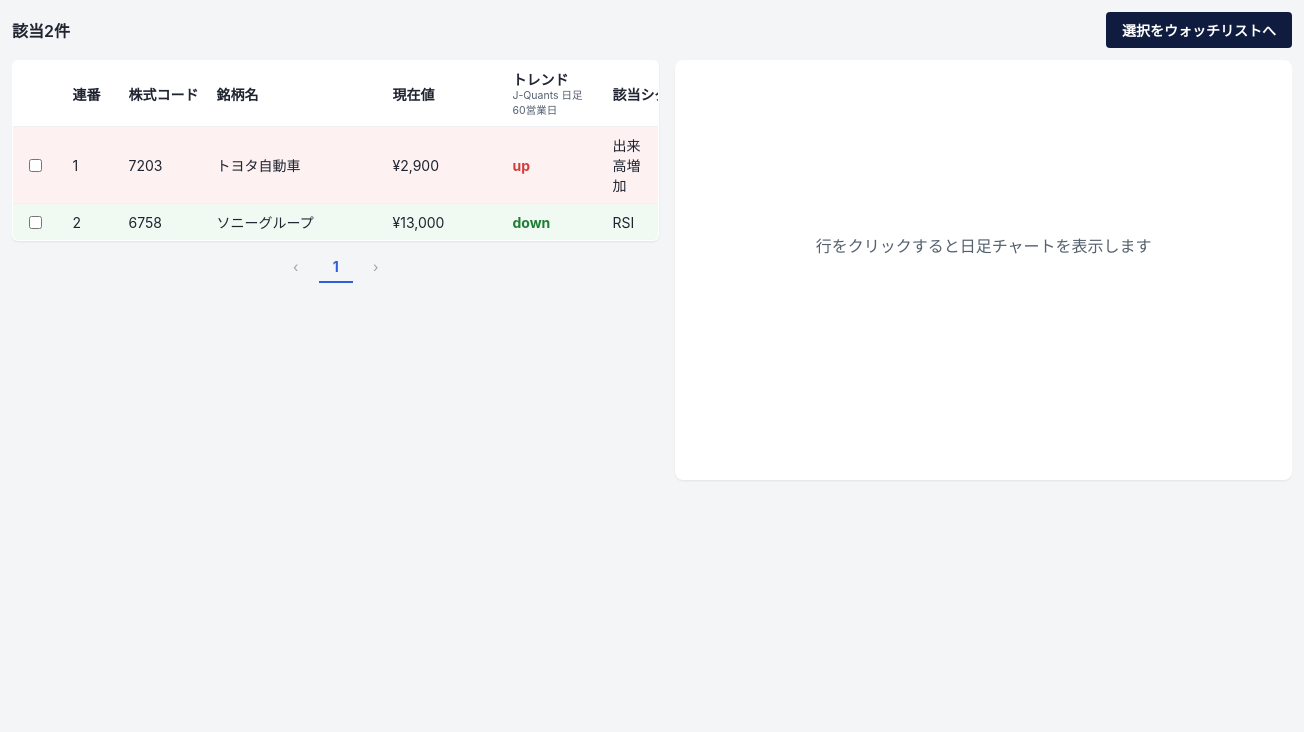
Test: ScreeningResultsPanel errors and notices › shows a neutral skipped-count note after registering, and clears it on the next register
The width and height of the screenshot is (1304, 732).
What coordinates should you click on to do the following:
click the checkbox named "7203を選択"
I would click on:
 (36, 165)
Its box is [29,159,42,172].
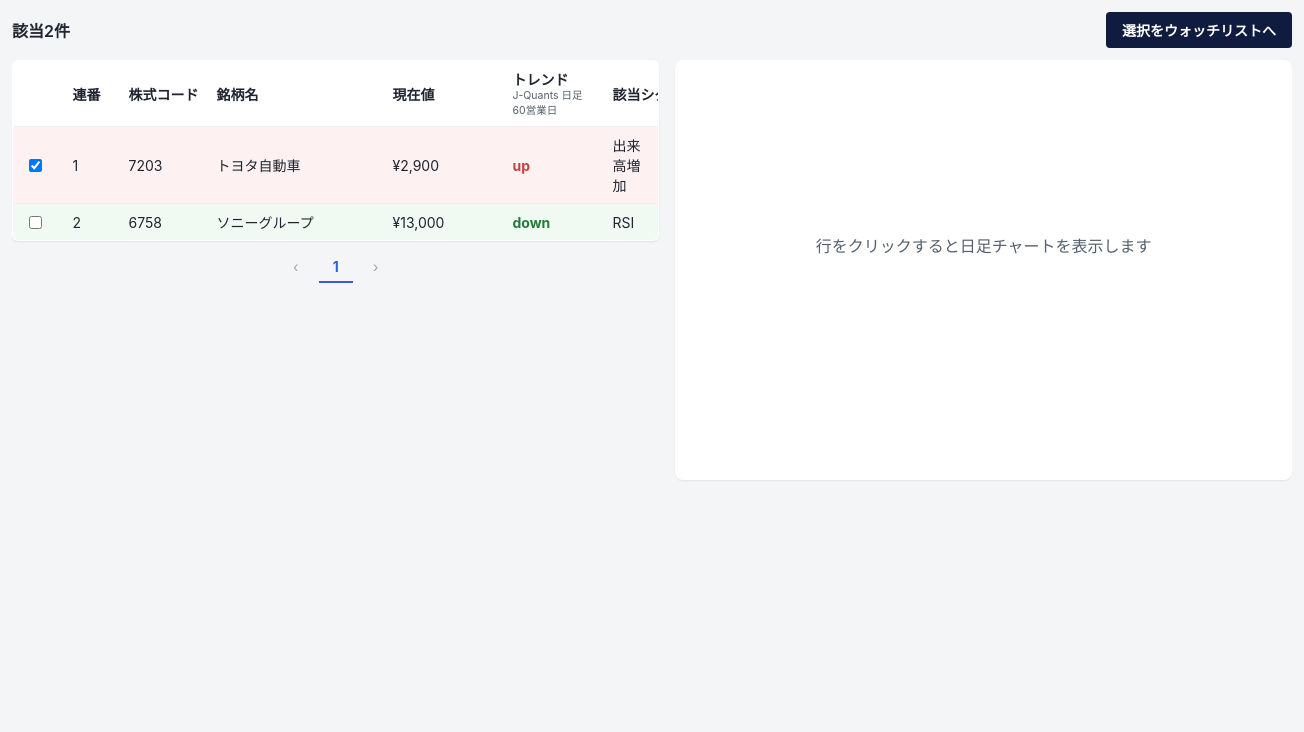
What coordinates should you click on to do the following:
click the button "選択をウォッチリストへ"
I would click on:
 (1199, 30)
Its box is [1106,12,1292,48].
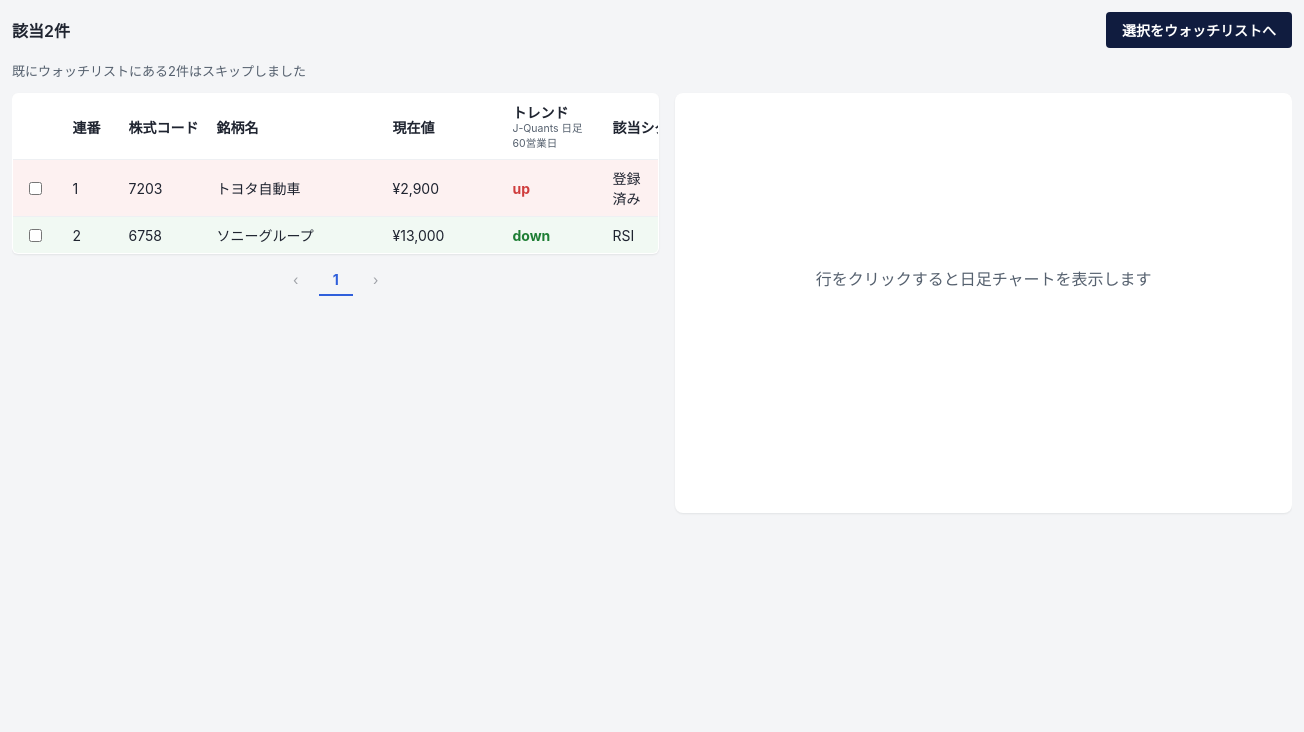
Result: the text "既にウォッチリストにある2件はスキップしました" is shown at [12,63,306,79]
What coordinates should you click on to do the following:
click the checkbox named "6758を選択"
I would click on:
 (36, 235)
Its box is [29,229,42,242].
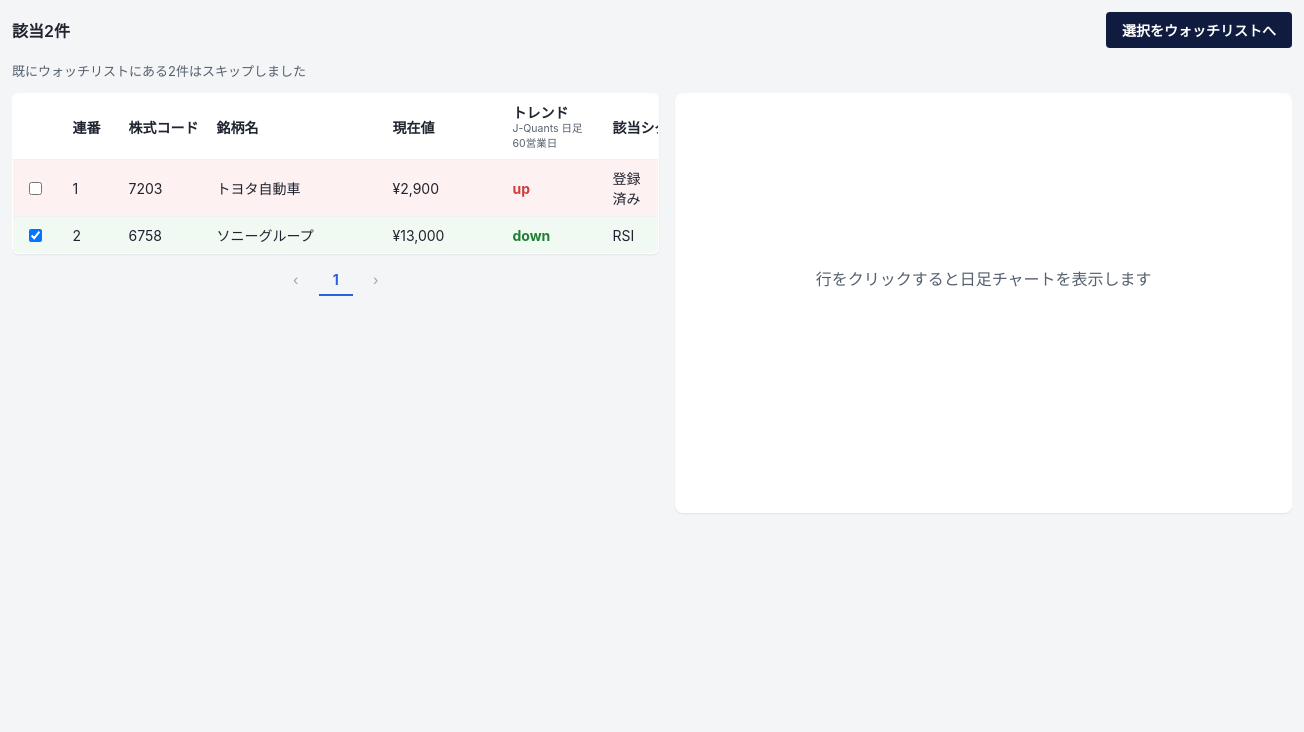
What coordinates should you click on to do the following:
click the button "選択をウォッチリストへ"
I would click on:
 (1199, 30)
Its box is [1106,12,1292,48].
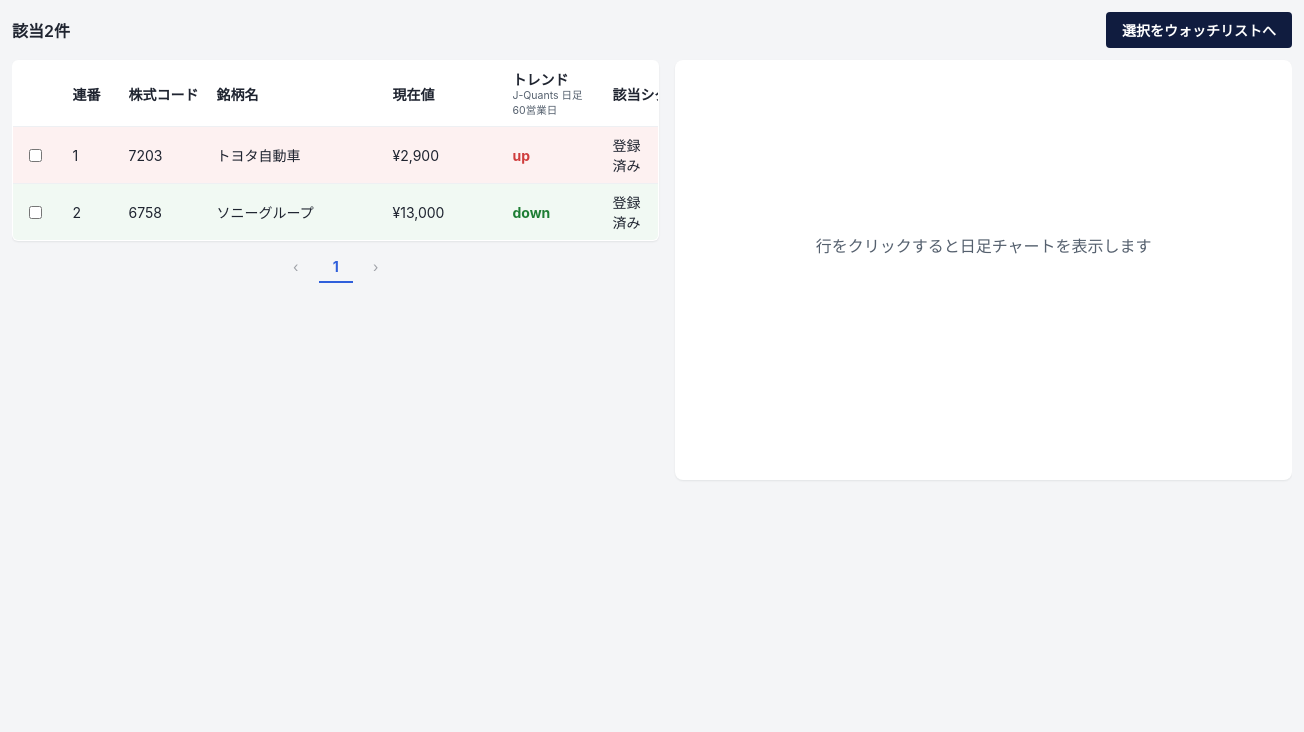
Result: the text "既にウォッチリストにある2件はスキップしました" is gone
